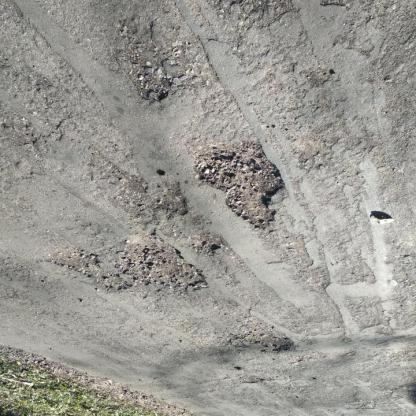pothole: (192, 140, 290, 233), (116, 238, 211, 301), (118, 23, 175, 105), (46, 249, 132, 296), (113, 173, 191, 218), (242, 322, 298, 355), (185, 236, 225, 257)
